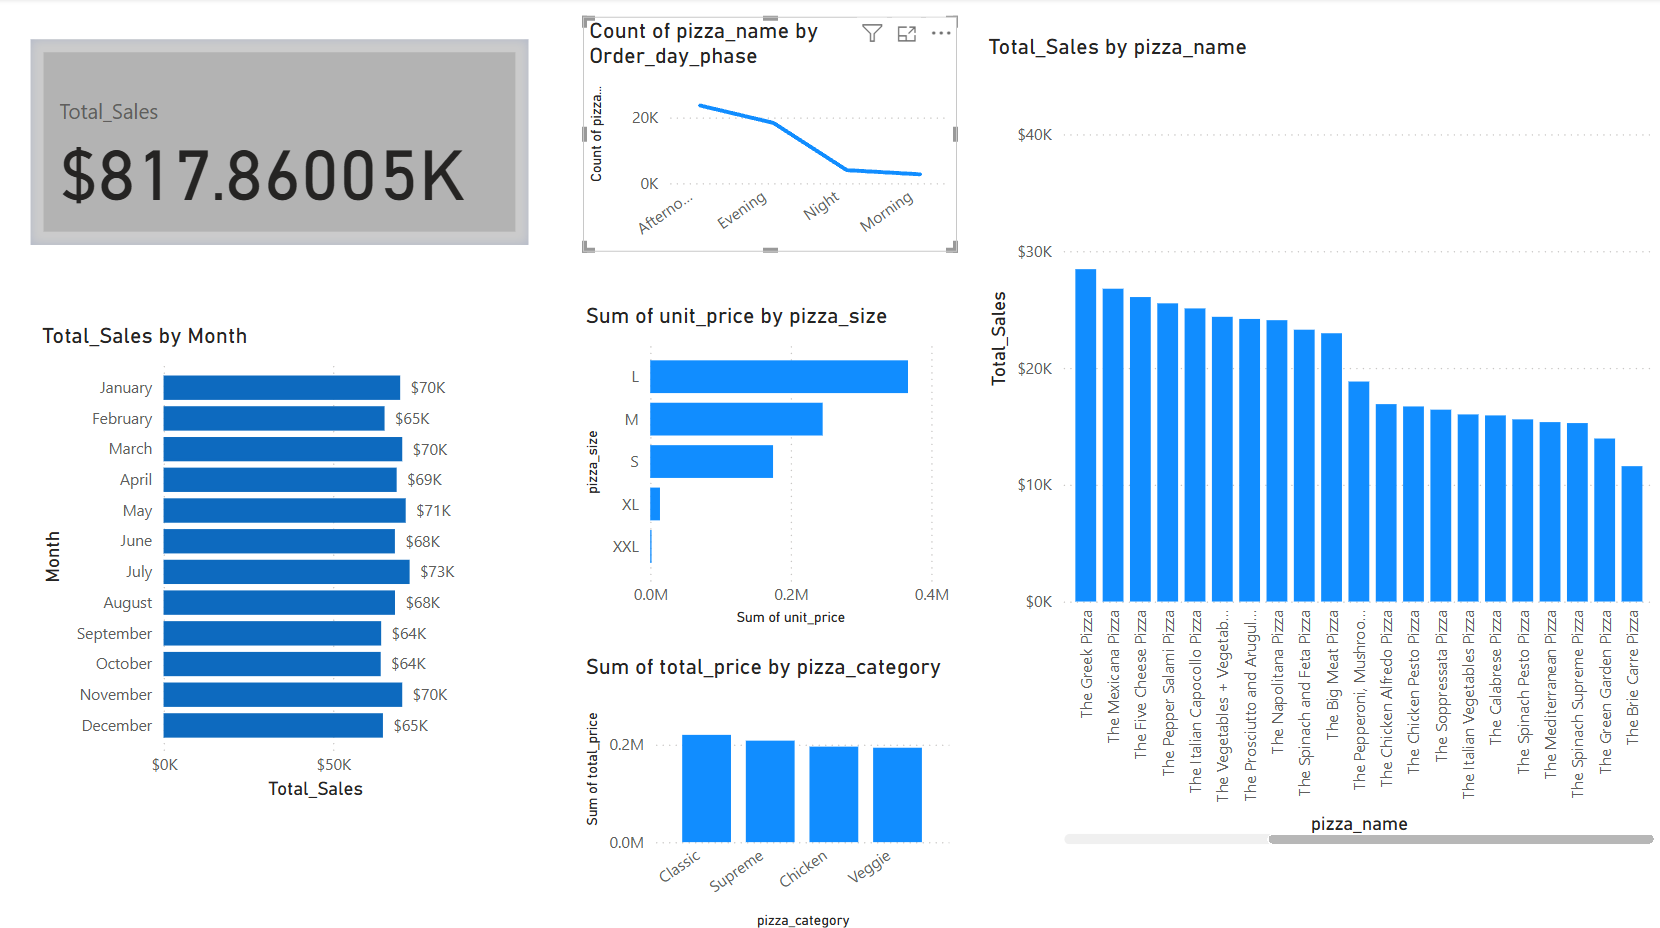

Layout of this report page (visuals, bound fields, positions):
{"tool":"powerbi","page":{"name":"Page 1","canvas":[1280,720],"ordinal":0},"visuals":[{"type":"cardVisual","fields":{"Data":["pizza_sales.Total_Spend"]},"box":[20.1,27.2,393.7,168.2],"z":0},{"type":"barChart","fields":{"Y":["pizza_sales.Total_Sales"],"Category":["pizza_sales.order_date.Variation.Date Hierarchy.Year","pizza_sales.order_date.Variation.Date Hierarchy.Quarter","pizza_sales.order_date.Variation.Date Hierarchy.Month","pizza_sales.order_date.Variation.Date Hierarchy.Day"]},"box":[29.2,248.7,351.4,372.6],"z":1000},{"type":"clusteredBarChart","fields":{"Category":["pizza_sales.pizza_size"],"Y":["Sum(pizza_sales.unit_price)"]},"box":[447.1,233.6,290,253.7],"z":2000},{"type":"lineChart","fields":{"Category":["pizza_sales.Order_day_phase"],"Y":["CountNonNull(pizza_sales.pizza_name)"]},"box":[450.1,14.1,287,181.2],"z":3000},{"type":"clusteredColumnChart","fields":{"Category":["pizza_sales.pizza_category"],"Y":["Sum(pizza_sales.total_price)"]},"box":[447.1,503.5,290,216.5],"z":4000},{"type":"columnChart","fields":{"Category":["pizza_sales.pizza_name","pizza_sales.order_date.Variation.Date Hierarchy.Year","pizza_sales.order_date.Variation.Date Hierarchy.Quarter","pizza_sales.order_date.Variation.Date Hierarchy.Month","pizza_sales.order_date.Variation.Date Hierarchy.Day"],"Y":["pizza_sales.Total_Sales"]},"box":[757.2,27.2,522.6,629.3],"z":5000}]}

Visuals, with their boxes in screenshot pixels (x1, y1, x2, y2), scaled from the page's 1280x720 canvas onto the 1660x928 screenshot:
cardVisual - pizza_sales.Total_Spend: rect(26, 35, 537, 252)
barChart - pizza_sales.Total_Sales x pizza_sales.order_date.Variation.Date Hierarchy.Year: rect(38, 321, 494, 801)
clusteredBarChart - pizza_sales.pizza_size x Sum(pizza_sales.unit_price): rect(580, 301, 956, 628)
lineChart - pizza_sales.Order_day_phase x CountNonNull(pizza_sales.pizza_name): rect(584, 18, 956, 252)
clusteredColumnChart - pizza_sales.pizza_category x Sum(pizza_sales.total_price): rect(580, 649, 956, 927)
columnChart - pizza_sales.pizza_name x pizza_sales.order_date.Variation.Date Hierarchy.Year: rect(982, 35, 1659, 846)
